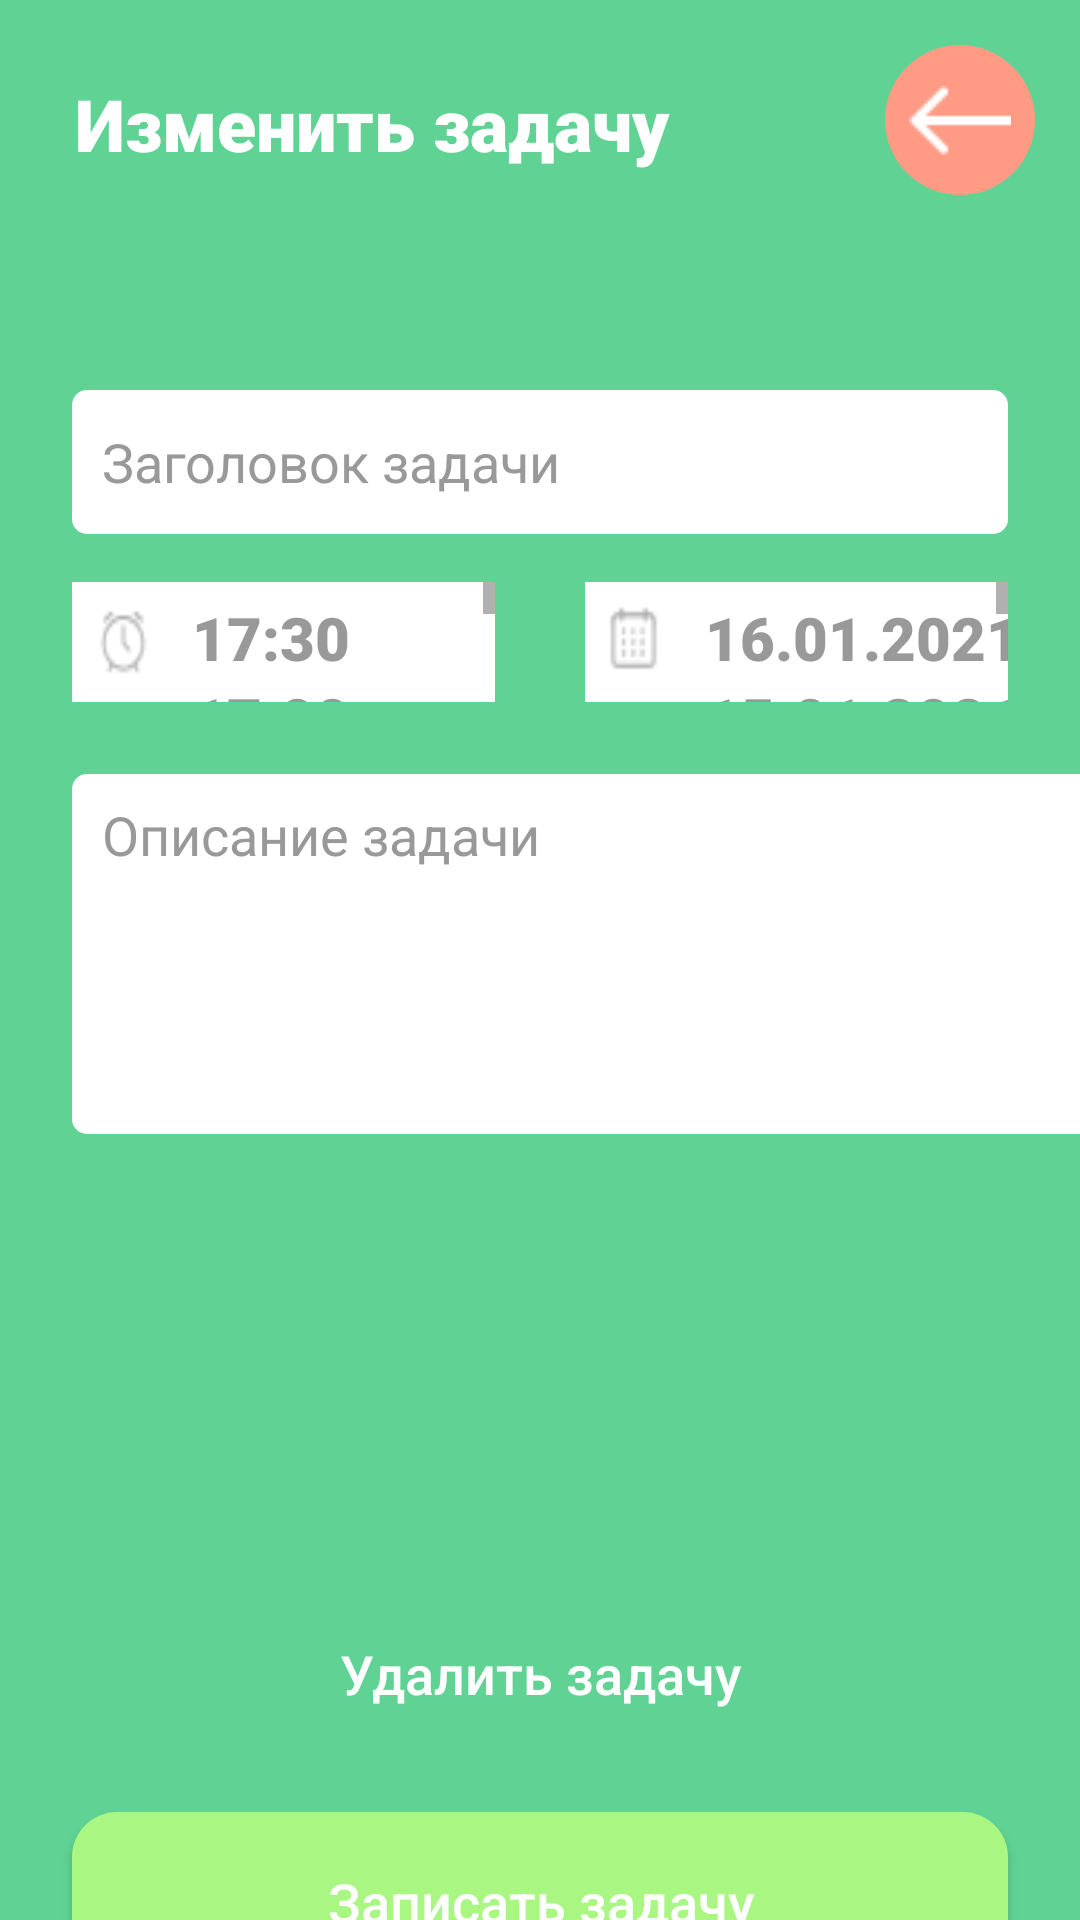

Where to tap for icons on this 1080px×1920px app screen, as (x,y):
arrow: (960,120)
